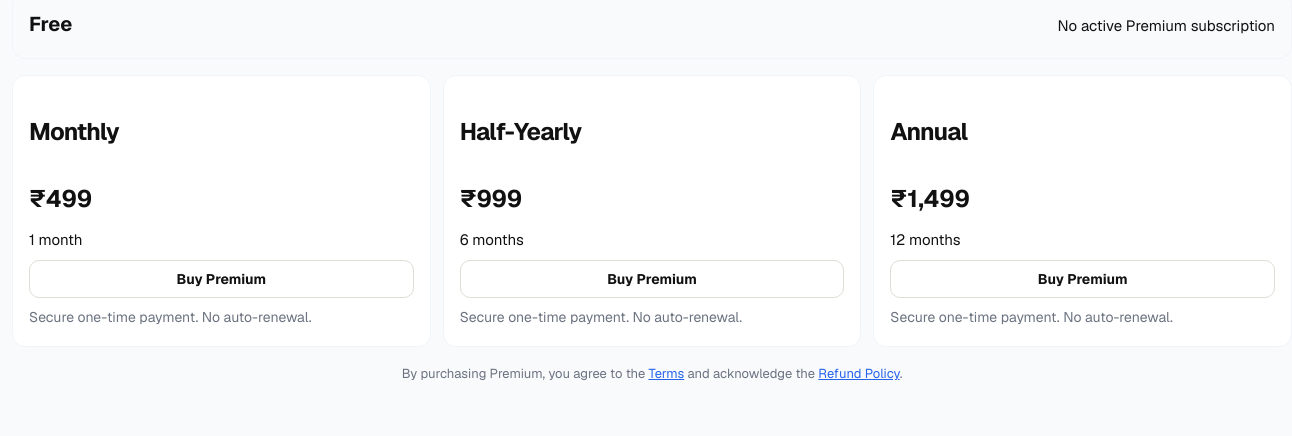
M4.2 subscription plan actions › does not request an order when Checkout script loading fails
Click the button "Buy Premium" below "1 month" at (221, 279), box x1=29 y1=260 x2=414 y2=298
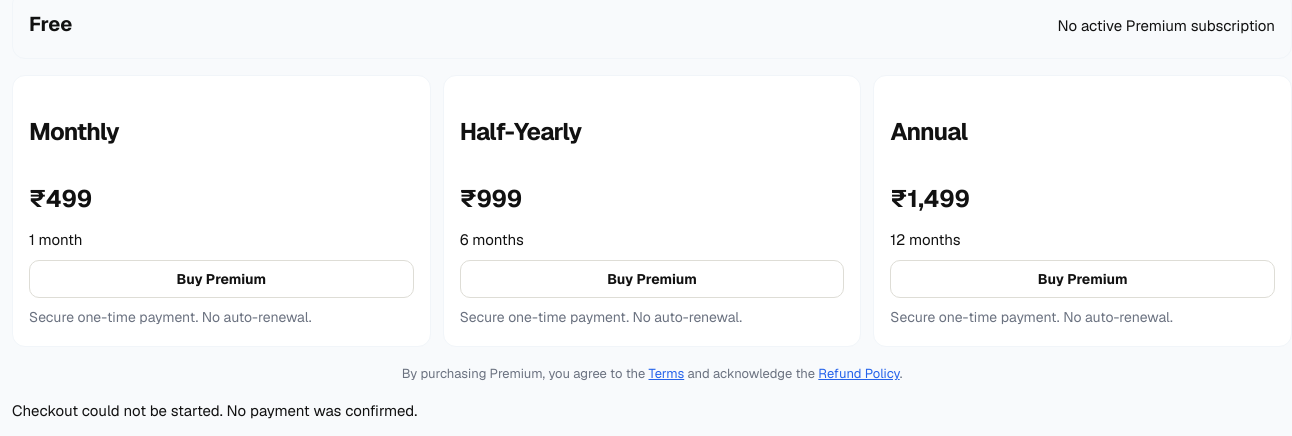
Now the message "Checkout could not be started. No payment was confirmed." is shown, box x1=12 y1=401 x2=417 y2=420
